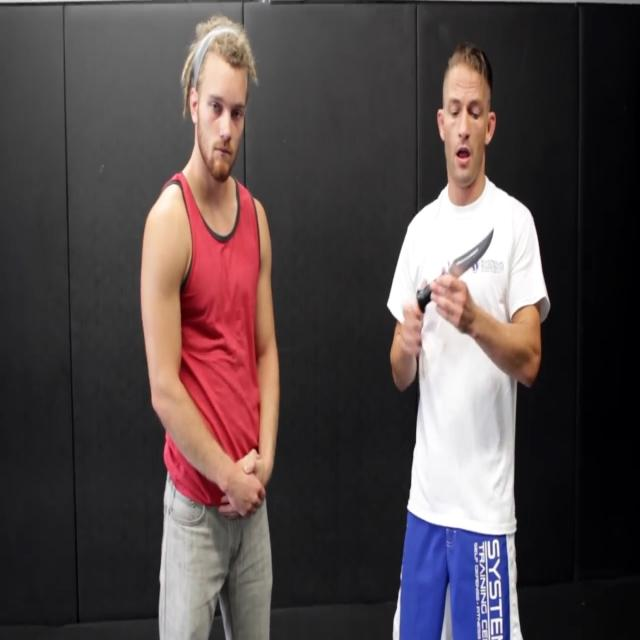knife: (414, 229, 496, 319)
